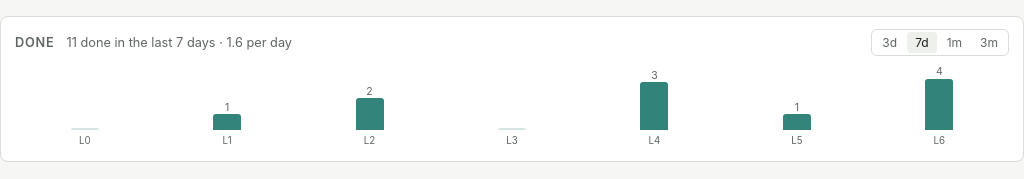
DoneChart › [F-029] renders one bar per bucket with the total, and switching the range refetches and is remembered
Check: the text with test id "done-total" shows "11 done in the last 7 days", box [66, 35, 292, 50]
Click the button with test id "done-range" showing "3d". click: (890, 43)
box: [874, 32, 905, 53]
Wait 200 ms
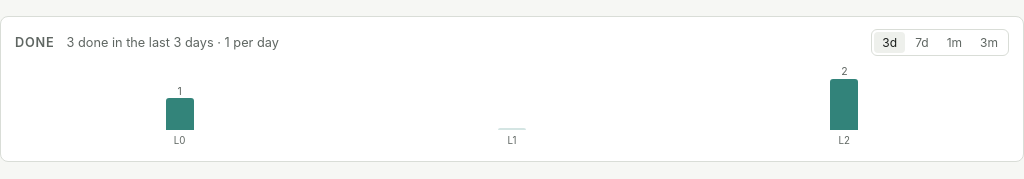
Check: the number of elements with test id "done-bucket" is 3, box [166, 85, 194, 130]; [498, 128, 526, 130]; [830, 65, 858, 130]
Check: the text with test id "done-total" shows "3 done in the last 3 days", box [66, 35, 279, 50]
